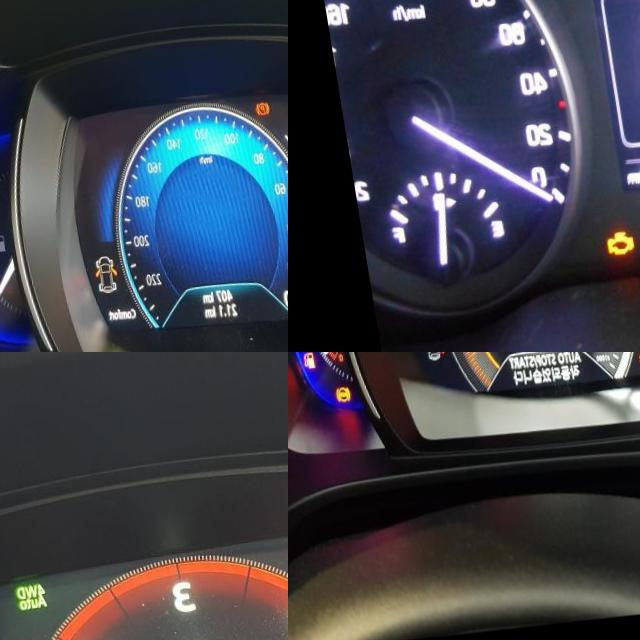Doors: (626, 356, 638, 375)
Low fuel level: (291, 352, 305, 370)
